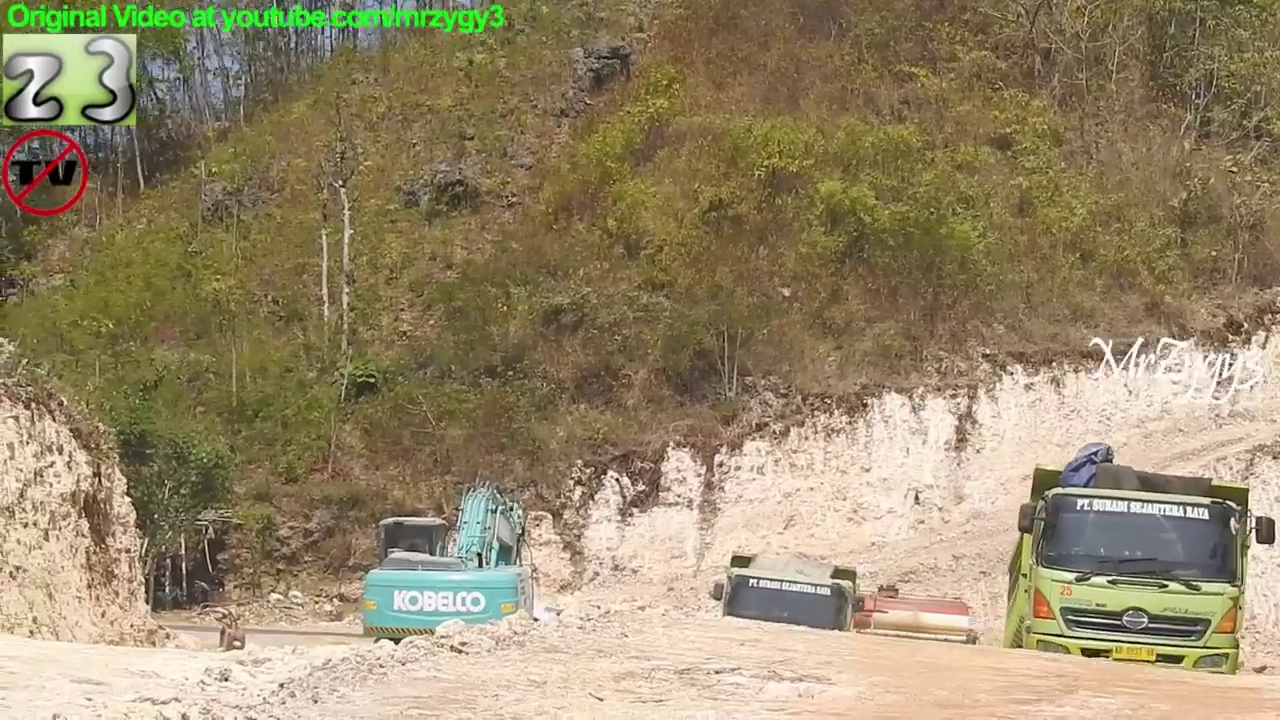excavator: (354, 474, 544, 672)
truck: (998, 458, 1280, 718), (706, 544, 872, 695), (768, 578, 981, 674)
